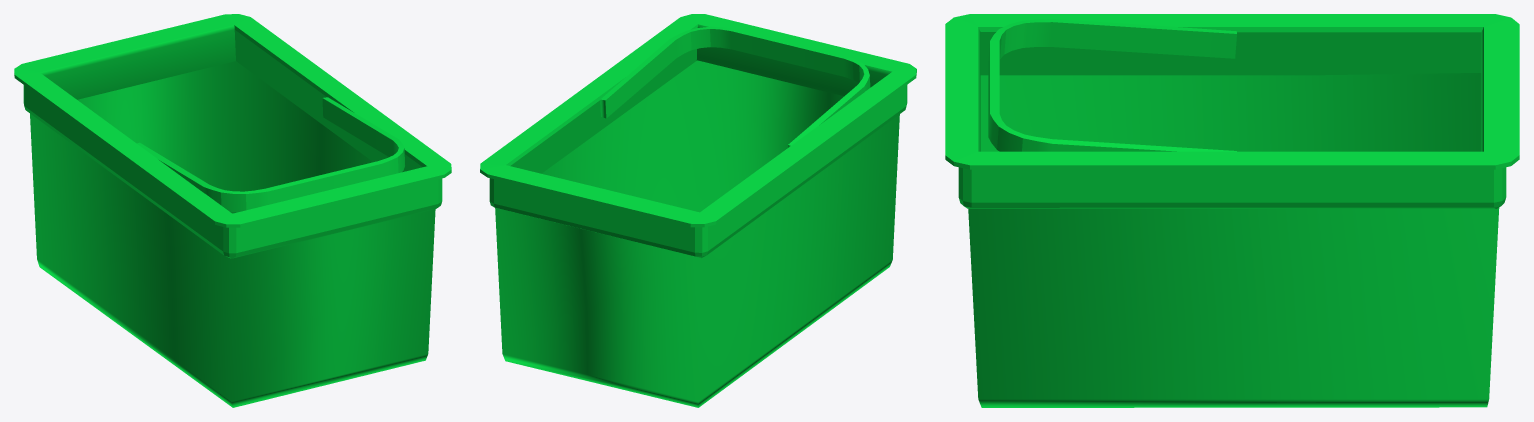
The model's file is Shop_Basket_02_Lod0.fbx.
3 views of the same model, side by side, from view 1: azimuth 30°, elevation 25°; view 2: azimuth 150°, elevation 25°; view 3: azimuth 270°, elevation 25° (orthographic). The views are drawn at different scales.
Parts seen in each view (by area): view 1: Shop_Basket_02_Lod0; view 2: Shop_Basket_02_Lod0; view 3: Shop_Basket_02_Lod0.
Part boxes in pixels (x1,y1,x2,y2): Shop_Basket_02_Lod0: (14,14,451,407); Shop_Basket_02_Lod0: (480,14,916,407); Shop_Basket_02_Lod0: (945,14,1519,407).
Bounding box in the file's own units: 34.31 × 28.38 × 55.07.
